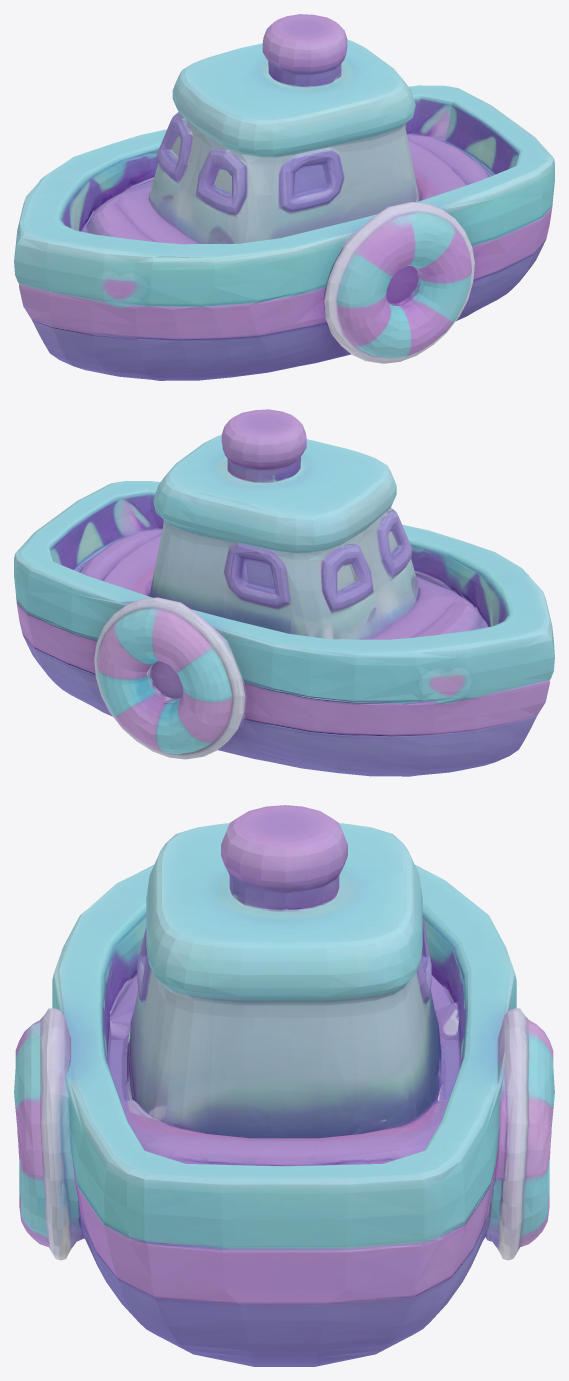
File: cosmic-boat.glb
The picture shows the model from 3 angles, top to bottom: view 1: azimuth 30°, elevation 25°; view 2: azimuth 150°, elevation 25°; view 3: azimuth 270°, elevation 25°; orthographic projection. The views are drawn at different scales.
Visible parts, largest first — view 1: Boat; view 2: Boat; view 3: Boat.
Part boxes in pixels (x1=…): Boat: x1=14, y1=14, x2=554, y2=380; Boat: x1=14, y1=409, x2=554, y2=776; Boat: x1=14, y1=805, x2=554, y2=1366.
Size of the model in its own units: 1.91 by 1.06 by 1.22.
1 material, 1 textured.
